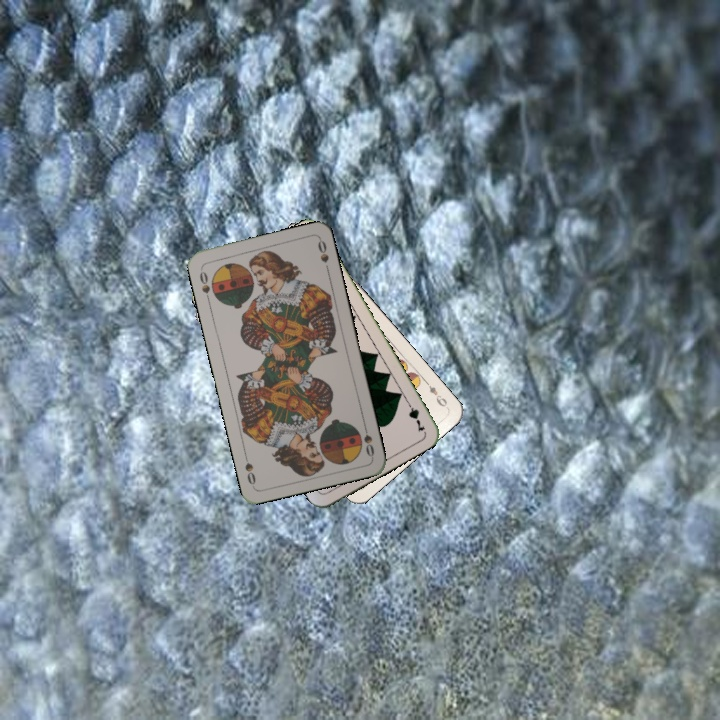E9: (421, 377, 451, 410)
G7: (402, 396, 428, 434)
SO: (195, 264, 218, 305), (359, 419, 377, 459)
